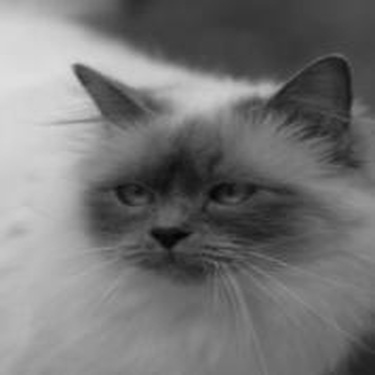cat: (4, 4, 368, 365)
